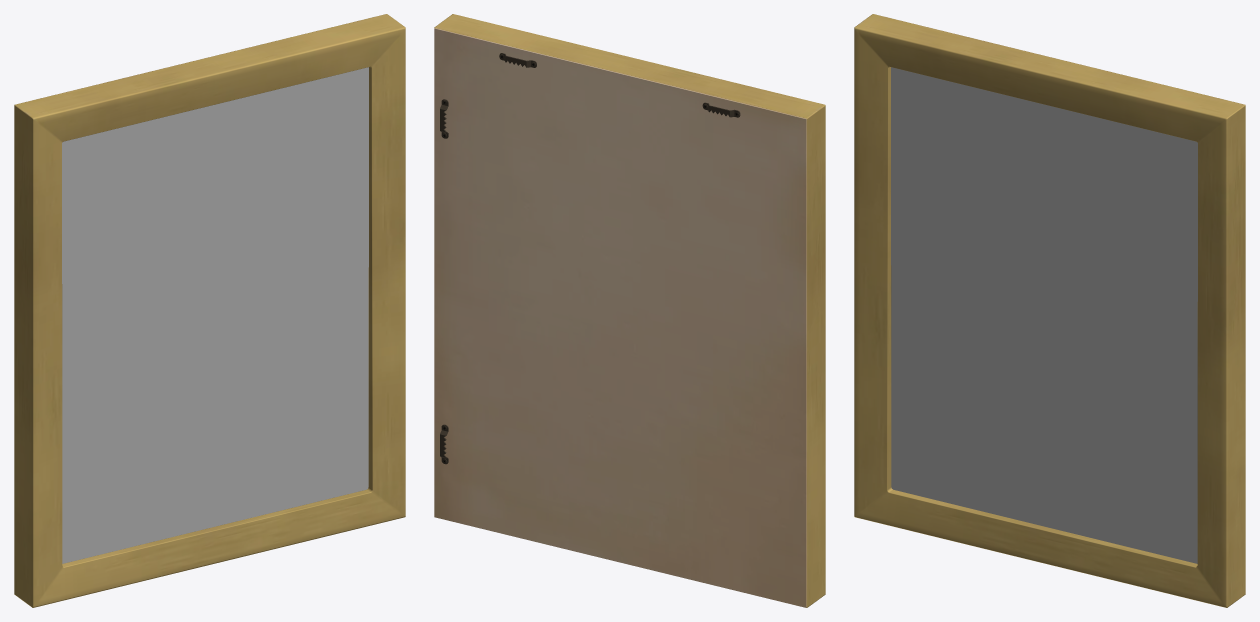
Rendered from abo-B07RRR2NCS.glb.
3 renders of one model, left to right at view 1: azimuth 30°, elevation 25°; view 2: azimuth 150°, elevation 25°; view 3: azimuth 330°, elevation 25°, orthographic.
Size of the model in its own units: 0.405 by 0.508 by 0.041.
1 material, 1 textured.
